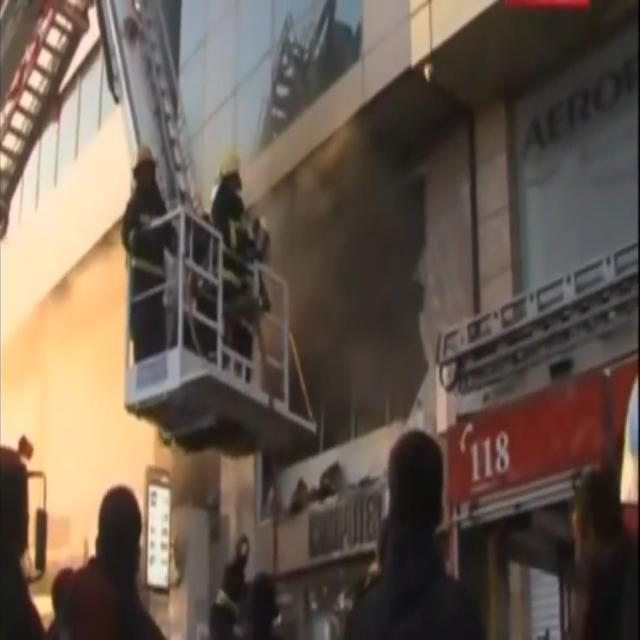Fire: (14, 238, 334, 484)
